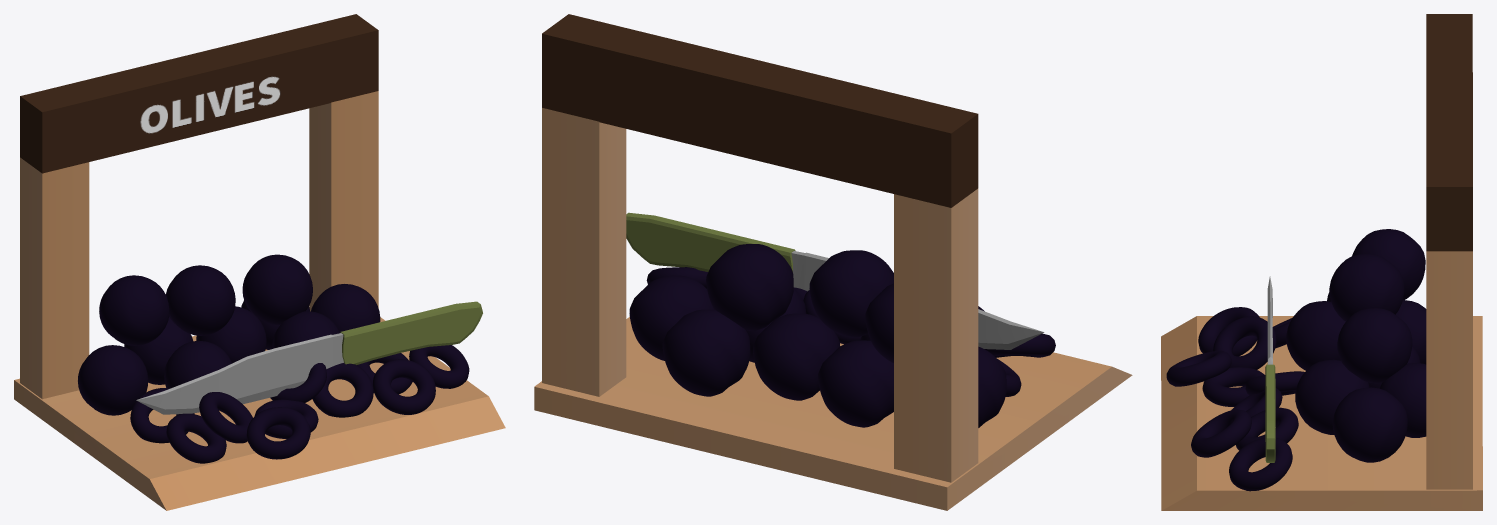
Rendered from Olives.fbx.
The picture shows the model from 3 angles, left to right: view 1: azimuth 30°, elevation 25°; view 2: azimuth 150°, elevation 25°; view 3: azimuth 270°, elevation 25°; orthographic projection. The views are drawn at different scales.
Visible parts, largest first — view 1: Cube.035, Cube.037, Sphere.003, Sphere.002, Sphere.004, Sphere.009, Torus.002, Torus.004, Sphere.010, Sphere.007, Sphere.006, Torus.008 (+9 smaller); view 2: Cube.035, Cube.037, Sphere.001, Sphere.009, Sphere.007, Sphere.005, Sphere.002, Sphere.010, Sphere.004, Sphere.003, Torus.005; view 3: Cube.035, Sphere.010, Sphere.009, Sphere.002, Sphere.008, Sphere.006, Sphere.003, Torus.003, Sphere.001, Torus.006, Torus.002, Torus.004 (+7 smaller).
Boxes of the visible parts, bbox=[...] form: Cube.035: bbox=[14, 14, 505, 510]; Cube.037: bbox=[136, 301, 482, 414]; Sphere.003: bbox=[99, 275, 169, 345]; Sphere.002: bbox=[166, 265, 235, 335]; Sphere.004: bbox=[78, 345, 148, 415]; Sphere.009: bbox=[242, 254, 312, 325]; Torus.002: bbox=[373, 359, 435, 414]; Torus.004: bbox=[246, 407, 310, 459]; Sphere.010: bbox=[311, 284, 380, 332]; Sphere.007: bbox=[196, 306, 266, 363]; Sphere.006: bbox=[164, 340, 231, 388]; Torus.008: bbox=[312, 363, 373, 417]; Cube.035: bbox=[534, 14, 1132, 510]; Cube.037: bbox=[626, 212, 1044, 349]; Sphere.001: bbox=[662, 309, 750, 396]; Sphere.009: bbox=[706, 244, 793, 330]; Sphere.007: bbox=[753, 313, 839, 400]; Sphere.005: bbox=[818, 340, 893, 427]; Sphere.002: bbox=[809, 250, 893, 337]; Sphere.010: bbox=[629, 275, 714, 360]; Sphere.004: bbox=[978, 346, 1006, 427]; Sphere.003: bbox=[865, 283, 893, 363]; Torus.005: bbox=[985, 333, 1055, 357]; Cube.035: bbox=[1161, 14, 1482, 510]; Sphere.010: bbox=[1332, 387, 1407, 462]; Sphere.009: bbox=[1337, 308, 1412, 383]; Sphere.002: bbox=[1329, 253, 1404, 321]; Sphere.008: bbox=[1295, 359, 1369, 434]; Sphere.006: bbox=[1286, 301, 1345, 370]; Sphere.003: bbox=[1352, 229, 1425, 299]; Torus.003: bbox=[1229, 438, 1292, 491]; Sphere.001: bbox=[1379, 363, 1426, 437]; Torus.006: bbox=[1213, 316, 1276, 369]; Torus.002: bbox=[1191, 409, 1251, 457]; Torus.004: bbox=[1166, 350, 1231, 386].
Size of the model in its own units: 4.32 by 3.45 by 3.11.
Materials: 4 (2 with a texture image).
